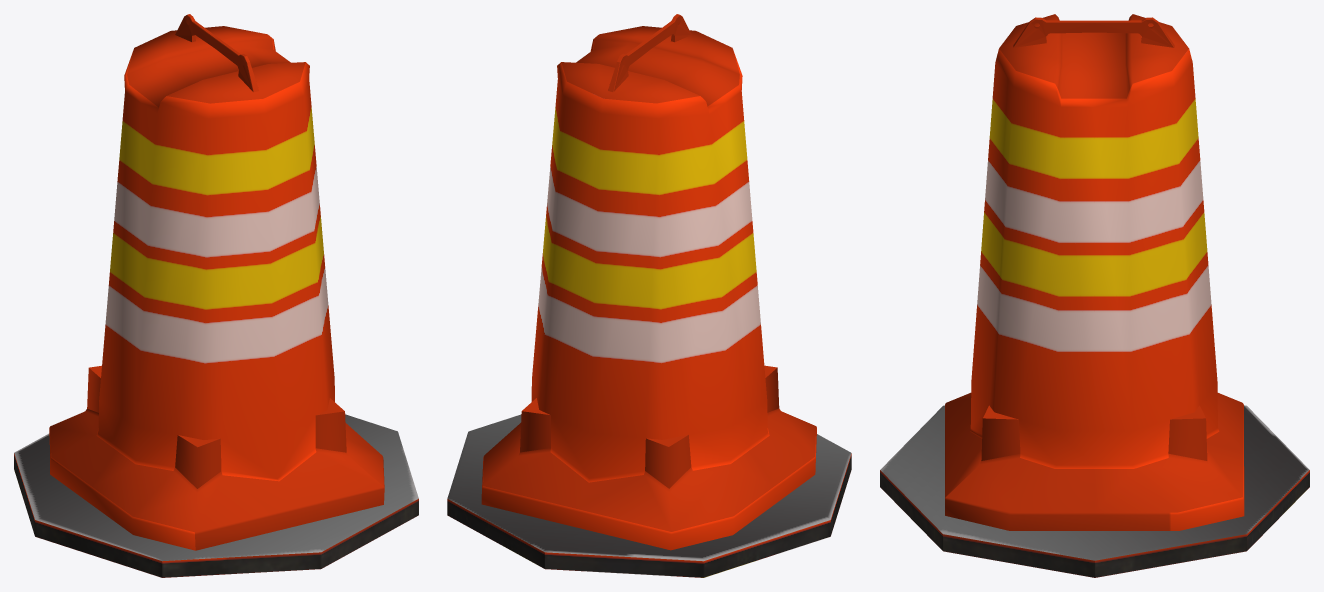
File: Traffic Barrel.FBX
The picture shows the model from 3 angles, left to right: view 1: azimuth 30°, elevation 25°; view 2: azimuth 150°, elevation 25°; view 3: azimuth 270°, elevation 25°; orthographic projection. The views are drawn at different scales.
Visible parts, largest first — view 1: Traffic Barrel; view 2: Traffic Barrel; view 3: Traffic Barrel.
Boxes of the visible parts, box(x1,y1,x2,y2) form: Traffic Barrel: box(14, 14, 418, 577); Traffic Barrel: box(447, 14, 851, 577); Traffic Barrel: box(880, 14, 1309, 577).
Size of the model in its own units: 41.62 by 41.62 by 50.14.
Materials: 1 (1 with a texture image).
